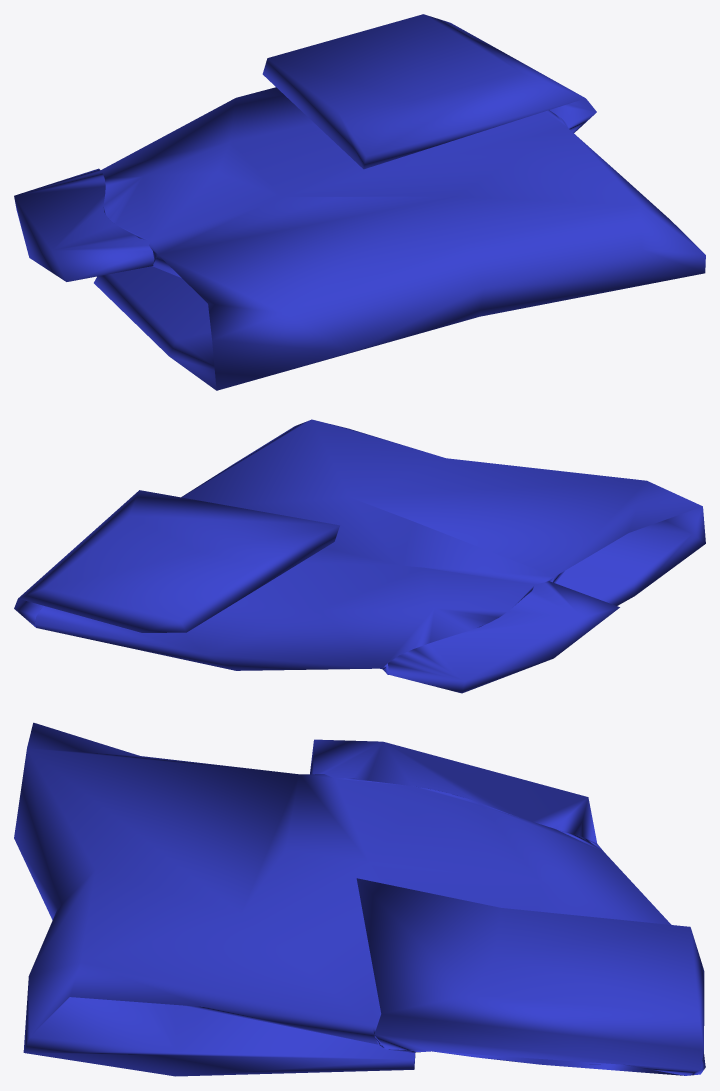
File: MDL_CLBL_unfolded.fbx
3 views of the same model, one above another, from view 1: azimuth 30°, elevation 25°; view 2: azimuth 150°, elevation 25°; view 3: azimuth 270°, elevation 25° (orthographic). The views are drawn at different scales.
Visible parts, largest first — view 1: MDL_CL_unfolded; view 2: MDL_CL_unfolded; view 3: MDL_CL_unfolded.
Part boxes in pixels (x1,y1,x2,y2): MDL_CL_unfolded: (14, 14, 705, 390); MDL_CL_unfolded: (14, 419, 705, 693); MDL_CL_unfolded: (14, 722, 705, 1076).
Bounding box in the file's own units: 87.54 × 12.01 × 81.66.
